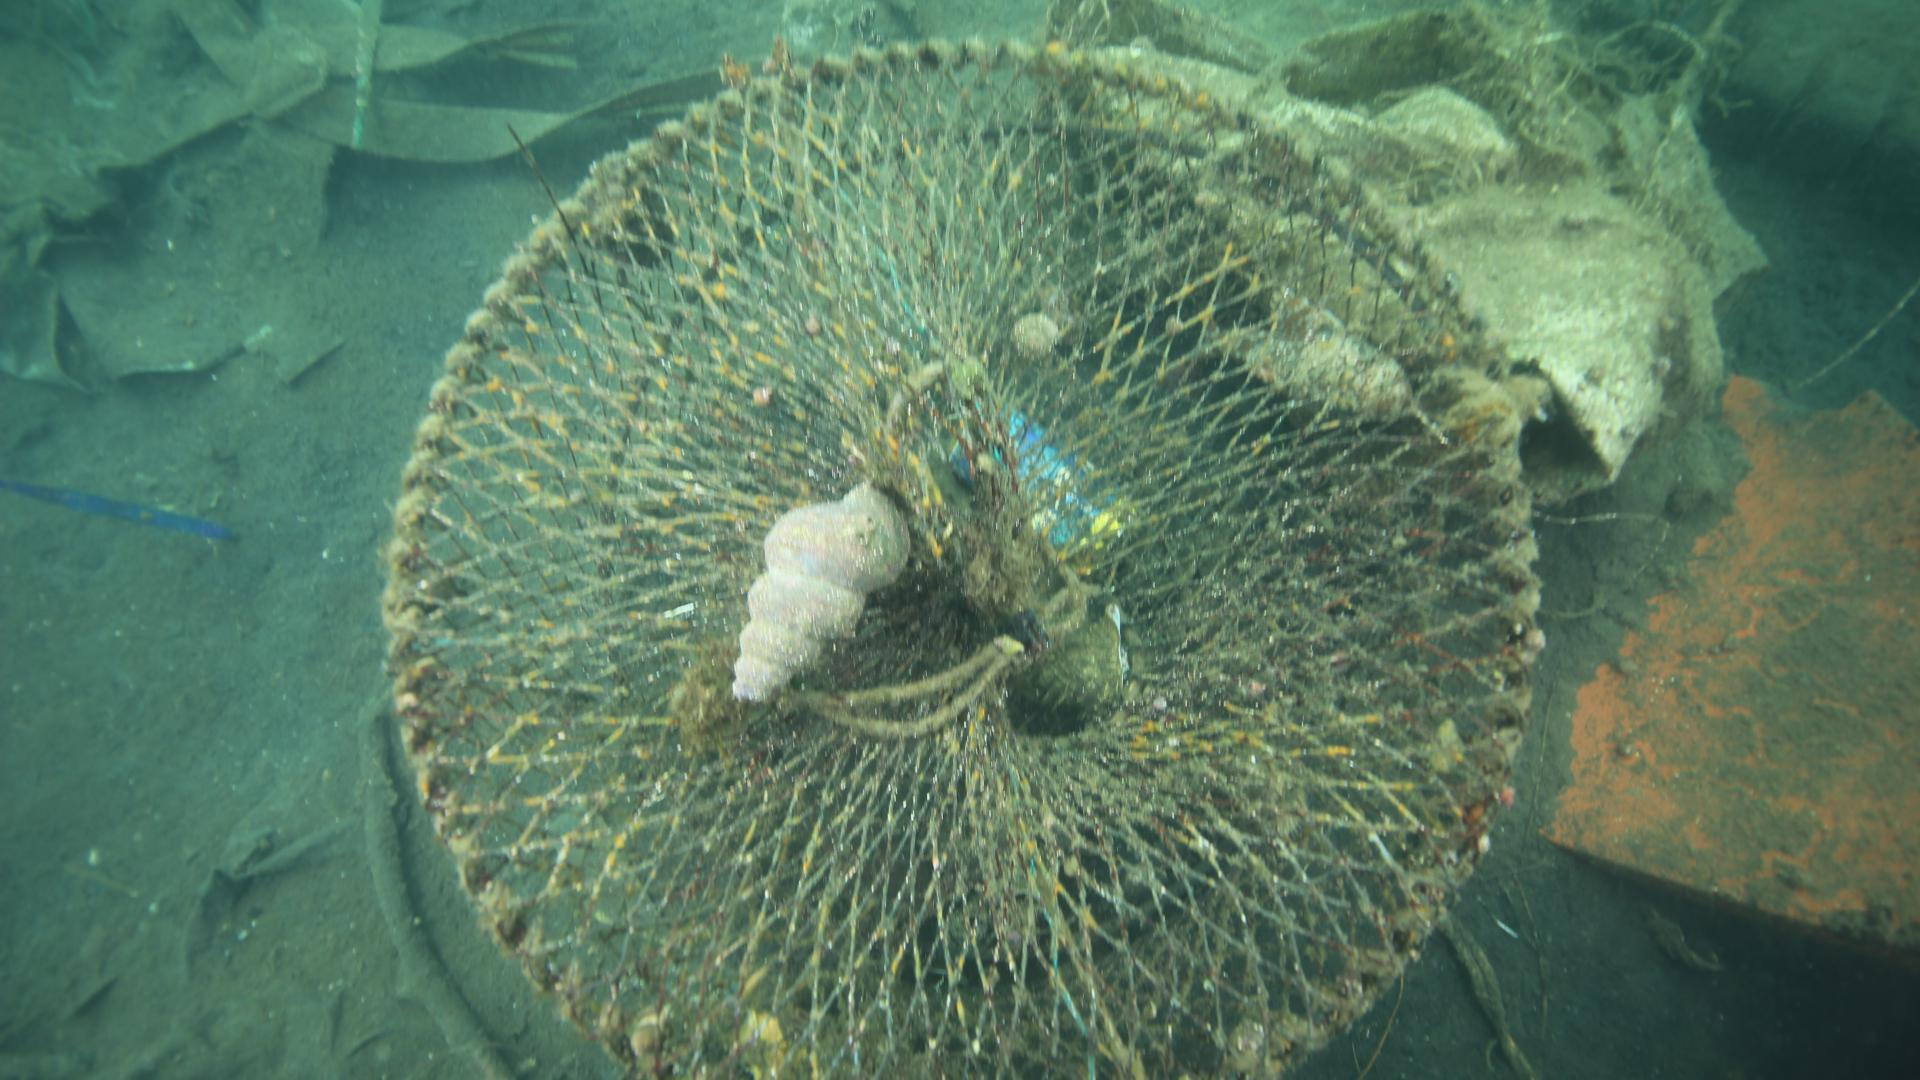circular fish trap: (368, 29, 1544, 1080)
